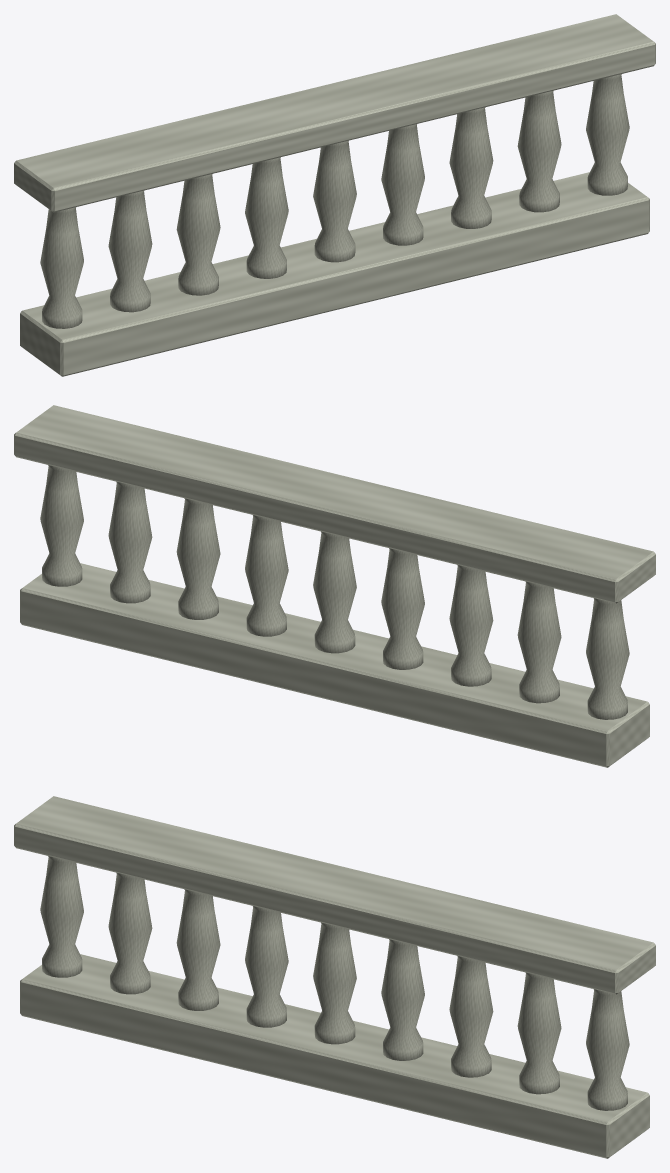
The model's file is stone_balustrade.glb.
3 renders of one model, top to bottom at view 1: azimuth 30°, elevation 25°; view 2: azimuth 150°, elevation 25°; view 3: azimuth 330°, elevation 25°, orthographic.
Parts seen in each view (by area): view 1: stone_balustrade_Structure; view 2: stone_balustrade_Structure; view 3: stone_balustrade_Structure.
Part boxes in pixels (left/top/right/bottom): stone_balustrade_Structure: left=14, top=14, right=655, bottom=376; stone_balustrade_Structure: left=14, top=405, right=655, bottom=767; stone_balustrade_Structure: left=14, top=796, right=655, bottom=1158.
Size of the model in its own units: 4.1 by 1.23 by 0.5.
1 material, 1 textured.
